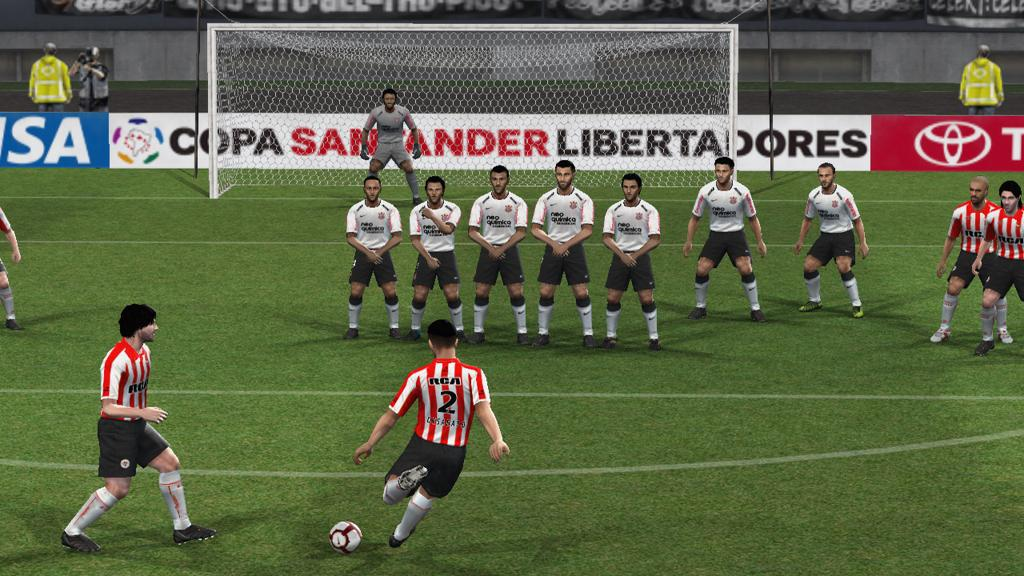face: (142, 316, 160, 343), (970, 181, 986, 204), (556, 167, 572, 189), (491, 172, 507, 193), (1002, 191, 1017, 212), (366, 180, 381, 201), (428, 183, 443, 204), (623, 180, 638, 201), (819, 168, 834, 188), (716, 165, 731, 184), (385, 94, 396, 108)
